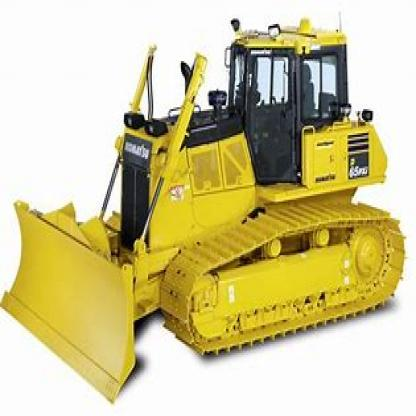bull_dozer/loader/grader: (3, 9, 414, 398)
